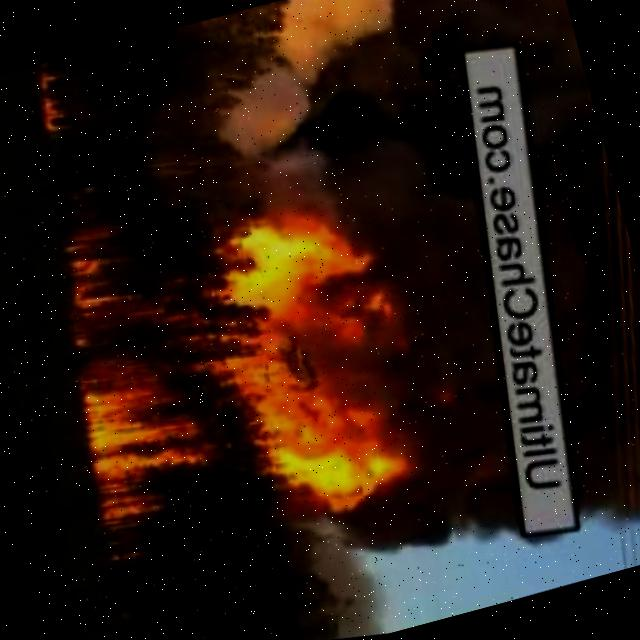fire: (189, 182, 421, 529), (22, 216, 238, 584), (23, 56, 85, 136)
